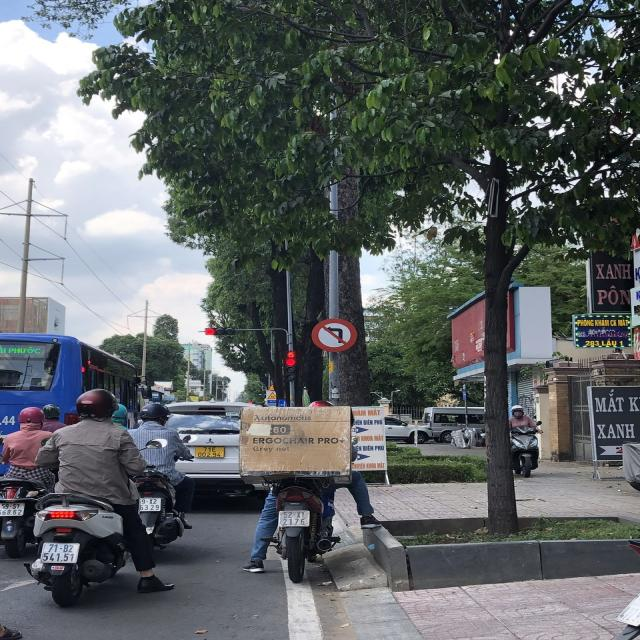Bien bao cam re trai: (311, 315, 359, 353)
